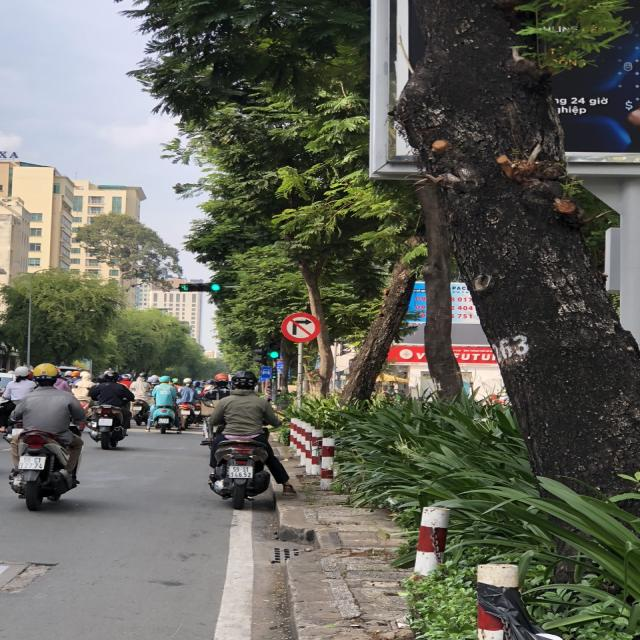Bien bao cam re phai: (277, 309, 325, 343)
